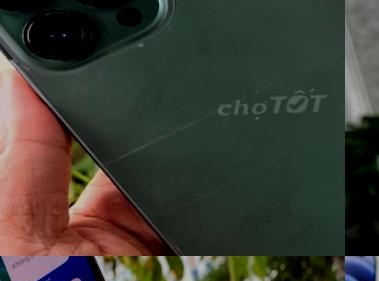scratch: (38, 26, 345, 229)
